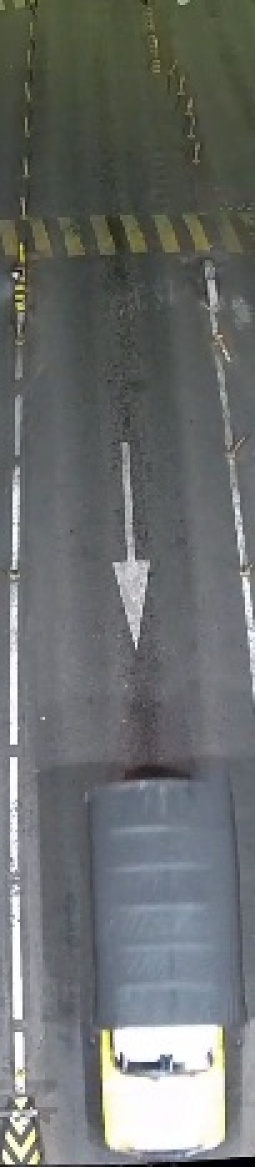truck: (91, 779, 234, 1148)
